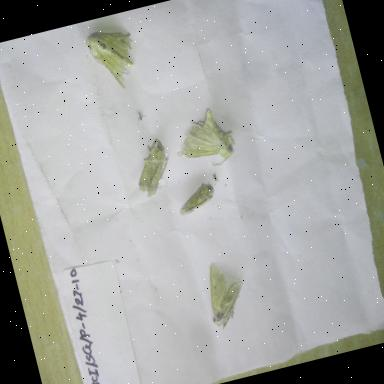abw: (163, 100, 243, 178), (81, 18, 149, 101), (192, 256, 256, 342), (120, 131, 178, 204), (170, 173, 222, 222)
